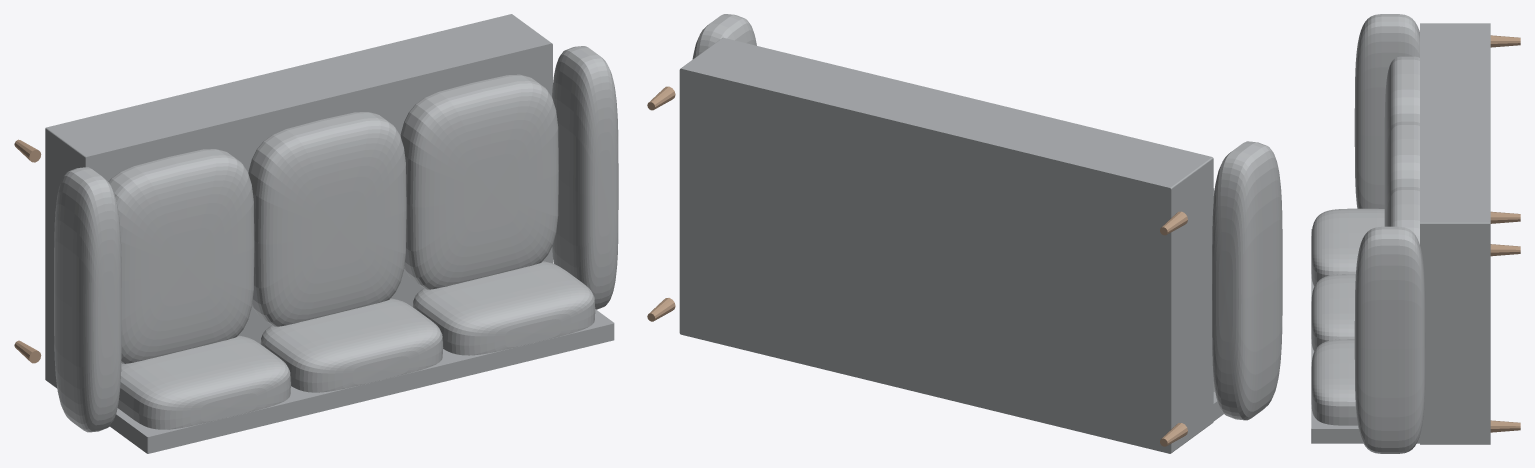
File: sofa_3.glb
The picture shows the model from 3 angles, left to right: view 1: azimuth 30°, elevation 25°; view 2: azimuth 150°, elevation 25°; view 3: azimuth 270°, elevation 25°; orthographic projection. The views are drawn at different scales.
Visible parts, largest first — view 1: frame, seat_cushion_2, seat_cushion_1, seat_cushion_0, arm, arm_6, back_cushion_0, back_cushion_1, back_cushion_2, back_frame; view 2: frame, arm, arm_6; view 3: frame, arm_6, arm, back_cushion_0, back_cushion_2, back_cushion_1, seat_cushion_0, seat_cushion_1, seat_cushion_2, back_frame, leg_1, leg_2 (+2 smaller).
Part boxes in pixels (x1,y1,x2,y2): frame: (45, 14, 552, 388); seat_cushion_2: (400, 74, 558, 289); seat_cushion_1: (248, 112, 406, 326); seat_cushion_0: (108, 149, 254, 363); arm: (54, 167, 121, 432); arm_6: (552, 46, 618, 309); back_cushion_0: (117, 335, 290, 429); back_cushion_1: (260, 298, 443, 392); back_cushion_2: (413, 261, 595, 355); back_frame: (109, 309, 614, 453); frame: (679, 37, 1213, 453); arm: (1212, 141, 1282, 420); arm_6: (692, 14, 756, 59); frame: (1420, 23, 1490, 444); arm_6: (1354, 226, 1425, 453); arm: (1354, 14, 1419, 208); back_cushion_0: (1311, 208, 1384, 285); back_cushion_2: (1311, 339, 1357, 425); back_cushion_1: (1311, 274, 1355, 351); seat_cushion_0: (1384, 56, 1419, 181); seat_cushion_1: (1384, 121, 1419, 226); seat_cushion_2: (1385, 187, 1419, 244); back_frame: (1311, 229, 1429, 443); leg_1: (1490, 35, 1520, 47); leg_2: (1490, 420, 1520, 432).
Bounding box in the file's own units: 2 × 0.9 × 0.77.
